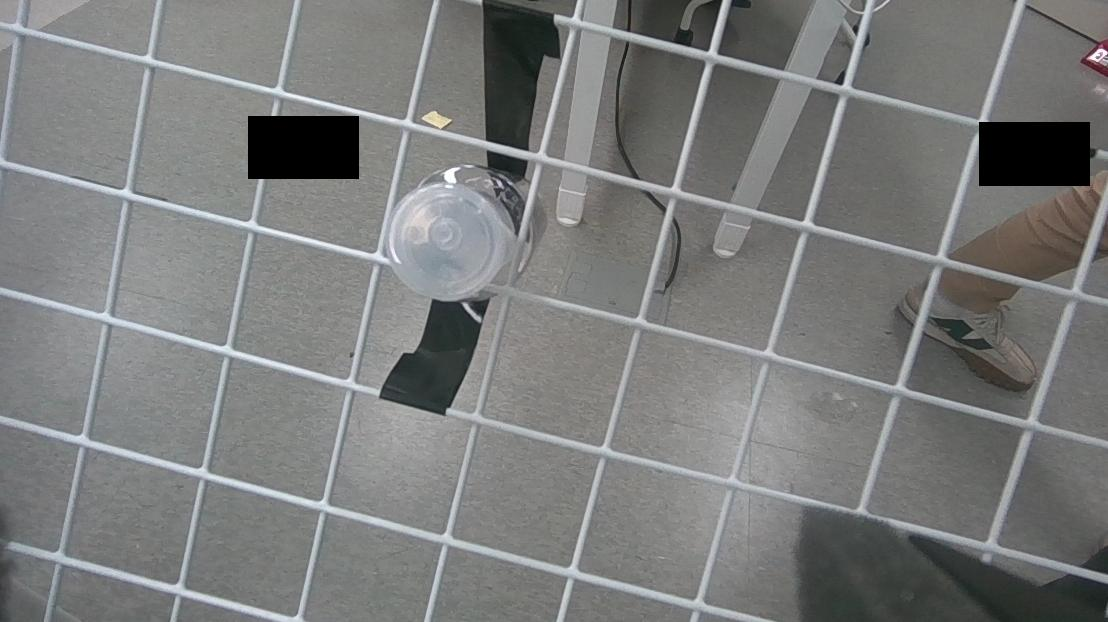Cap: (387, 183, 505, 298)
